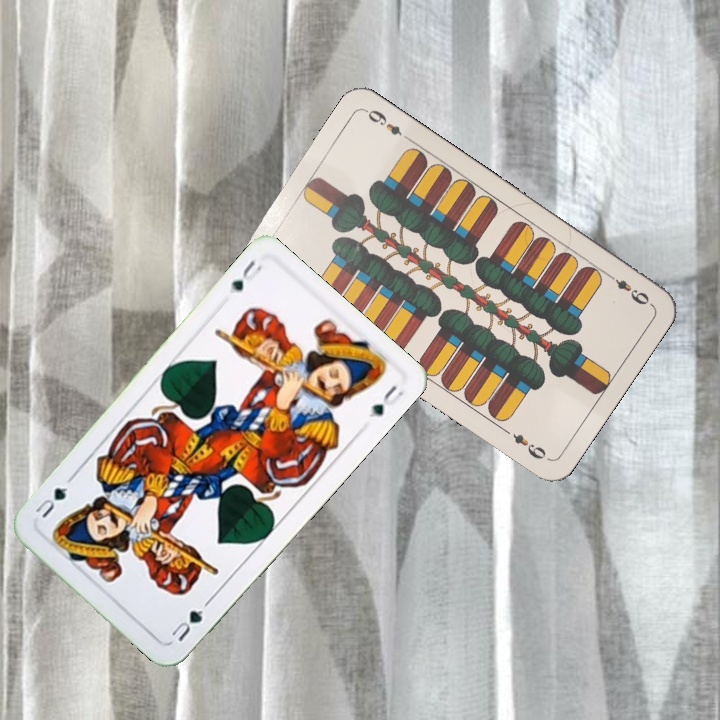E9: (602, 268, 653, 308)
GU: (225, 256, 265, 297), (167, 605, 206, 644)
